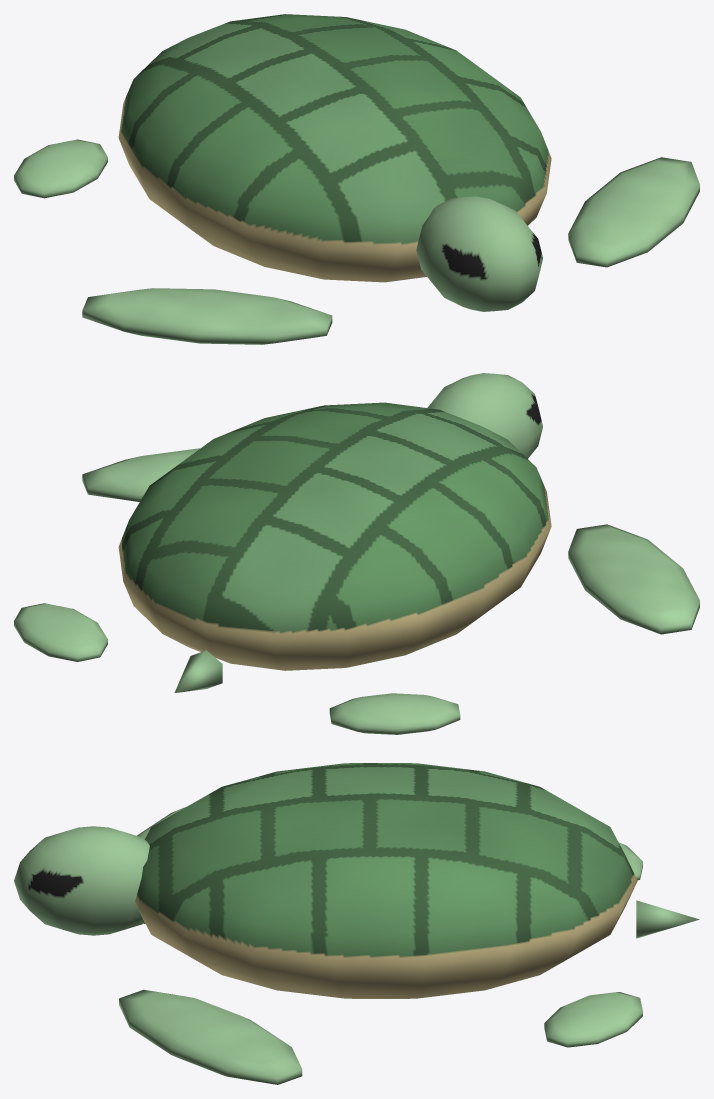
Rendered from sea_turtle.glb.
3 renders of one model, top to bottom at view 1: azimuth 30°, elevation 25°; view 2: azimuth 150°, elevation 25°; view 3: azimuth 270°, elevation 25°, orthographic.
Visible parts, largest first — view 1: SeaTurtle; view 2: SeaTurtle; view 3: SeaTurtle.
Boxes of the visible parts, box(x1,y1,x2,y2) form: SeaTurtle: box(14, 14, 699, 344); SeaTurtle: box(14, 373, 699, 734); SeaTurtle: box(14, 763, 699, 1084).
Bounding box in the file's own units: 1.31 × 0.3528 × 1.29.
Materials: 1 (1 with a texture image).
